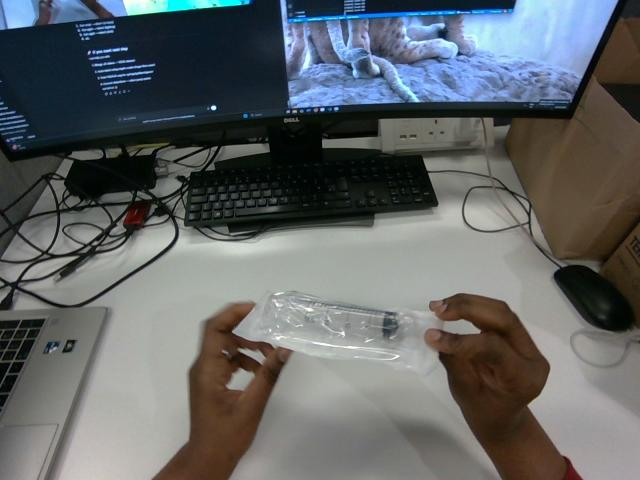syringe: (234, 292, 441, 374)
